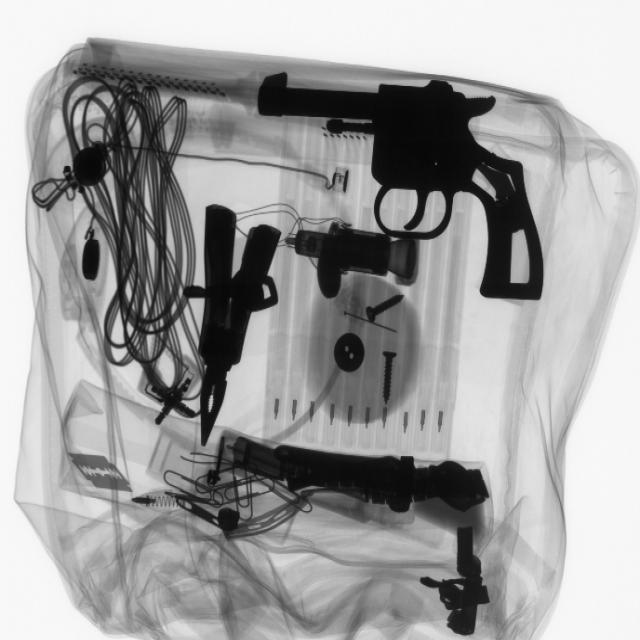BLADE: (64, 447, 137, 502)
GUN: (250, 74, 549, 308)
SCREW: (364, 346, 414, 414), (360, 288, 415, 337)
